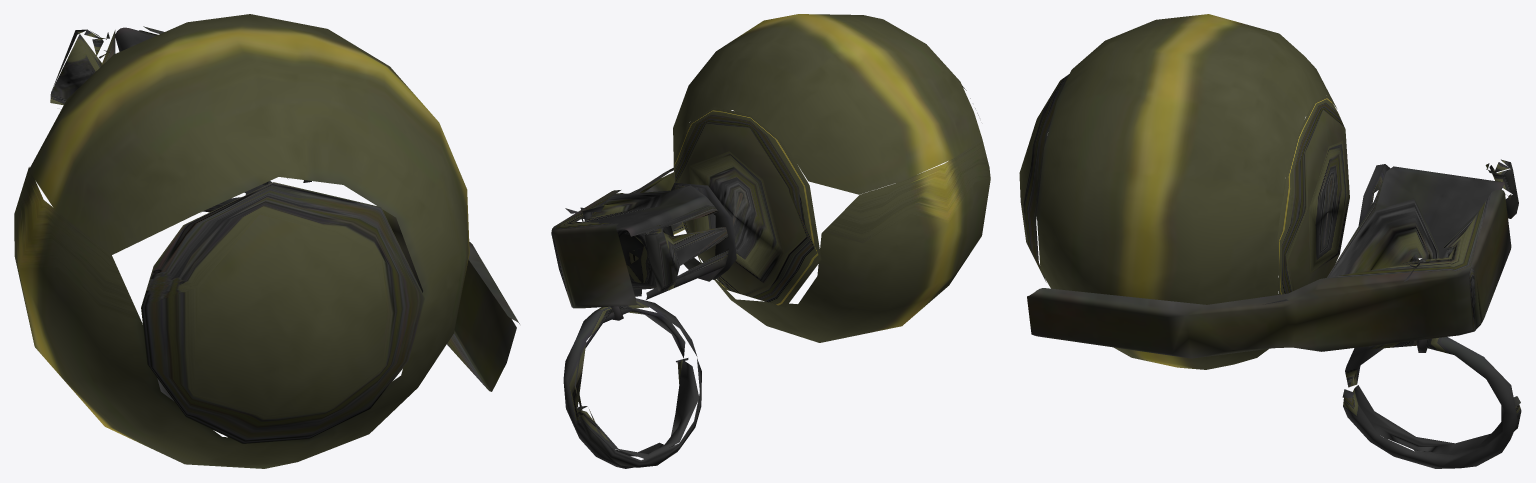
Rendered from p_hegrenade.glb.
The picture shows the model from 3 angles, left to right: view 1: azimuth 30°, elevation 25°; view 2: azimuth 150°, elevation 25°; view 3: azimuth 270°, elevation 25°; orthographic projection. The views are drawn at different scales.
Parts seen in each view (by area): view 1: p_hegrenade; view 2: p_hegrenade; view 3: p_hegrenade.
Boxes of the visible parts, <box> form: p_hegrenade: <box>14,14,519,468</box>; p_hegrenade: <box>551,14,990,468</box>; p_hegrenade: <box>1019,14,1521,468</box>.
Size of the model in its own units: 0.1112 by 0.1299 by 0.1464.
Materials: 1 (1 with a texture image).
